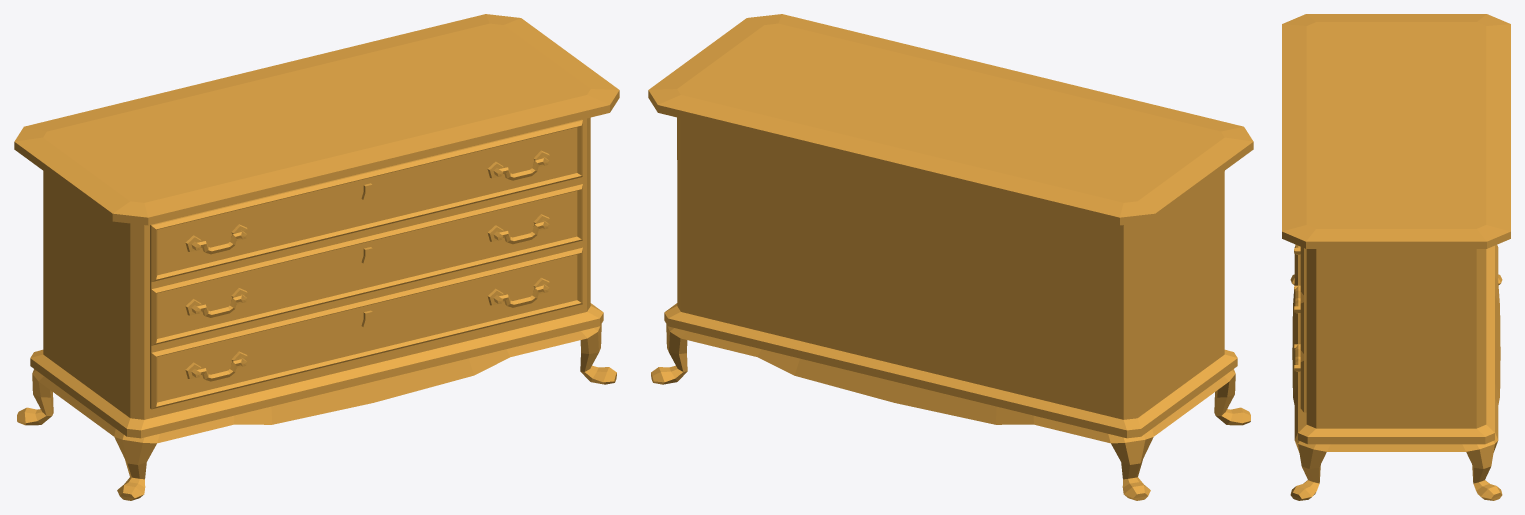
File: SM_Chest_Of_Drawers_Victorian_A.fbx
The picture shows the model from 3 angles, left to right: view 1: azimuth 30°, elevation 25°; view 2: azimuth 150°, elevation 25°; view 3: azimuth 270°, elevation 25°; orthographic projection. The views are drawn at different scales.
Visible parts, largest first — view 1: chest-of-drawers-victorian-a-base, chest-of-drawers-victorian-a-drawer-a, chest-of-drawers-victorian-a-drawer-c, chest-of-drawers-victorian-a-drawer-b; view 2: chest-of-drawers-victorian-a-base; view 3: chest-of-drawers-victorian-a-base, chest-of-drawers-victorian-a-drawer-b, chest-of-drawers-victorian-a-drawer-c, chest-of-drawers-victorian-a-drawer-a.
Part boxes in pixels (x1=…): chest-of-drawers-victorian-a-base: x1=14, y1=14, x2=619, y2=500; chest-of-drawers-victorian-a-drawer-a: x1=150, y1=119, x2=582, y2=281; chest-of-drawers-victorian-a-drawer-c: x1=150, y1=247, x2=582, y2=409; chest-of-drawers-victorian-a-drawer-b: x1=150, y1=184, x2=582, y2=345; chest-of-drawers-victorian-a-base: x1=648, y1=14, x2=1253, y2=500; chest-of-drawers-victorian-a-base: x1=1282, y1=14, x2=1510, y2=500; chest-of-drawers-victorian-a-drawer-b: x1=1294, y1=285, x2=1306, y2=354; chest-of-drawers-victorian-a-drawer-c: x1=1294, y1=344, x2=1306, y2=412; chest-of-drawers-victorian-a-drawer-a: x1=1294, y1=244, x2=1306, y2=295.
Bounding box in the file's own units: 1.5 × 0.8143 × 0.6376.
